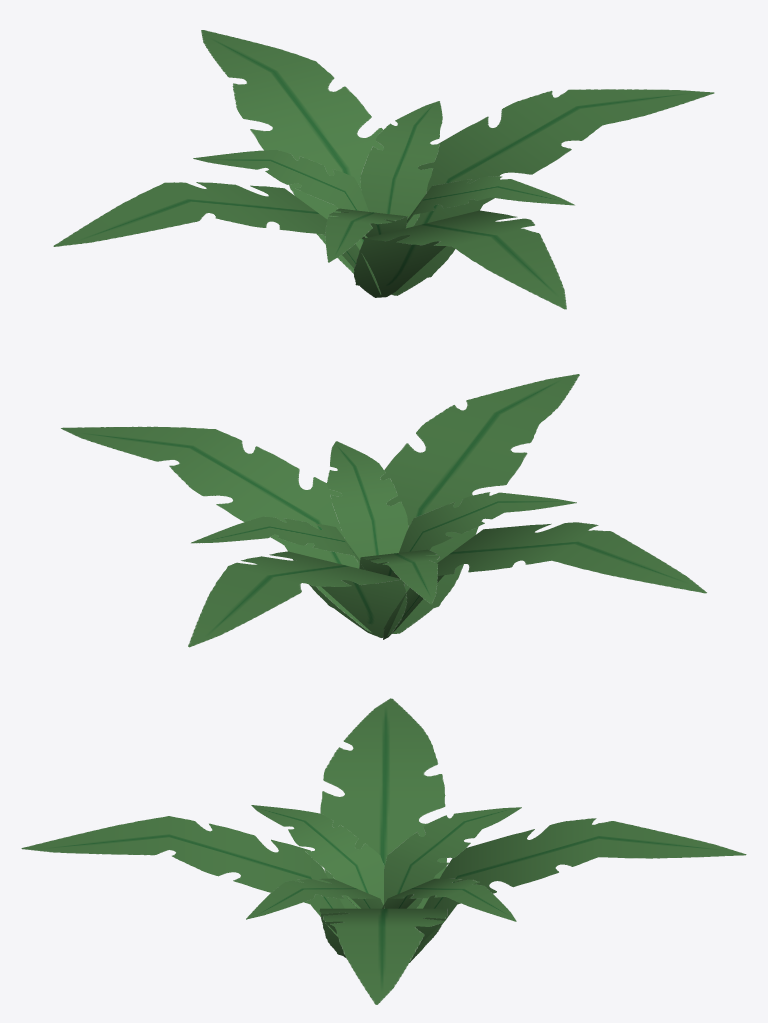
The model's file is Weed_01.fbx.
The picture shows the model from 3 angles, top to bottom: view 1: azimuth 30°, elevation 25°; view 2: azimuth 150°, elevation 25°; view 3: azimuth 270°, elevation 25°; orthographic projection. The views are drawn at different scales.
Parts seen in each view (by area): view 1: Plane.057; view 2: Plane.057; view 3: Plane.057.
Part boxes in pixels (x1,y1,x2,y2): Plane.057: (53, 30, 714, 309); Plane.057: (61, 374, 706, 647); Plane.057: (21, 698, 746, 1004).
Size of the model in its own units: 62.36 by 12.7 by 62.36.
Materials: 1 (1 with a texture image).
